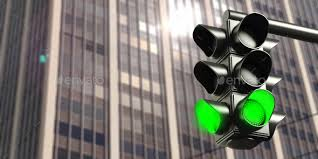green: (227, 17, 275, 136), (232, 23, 270, 131)
